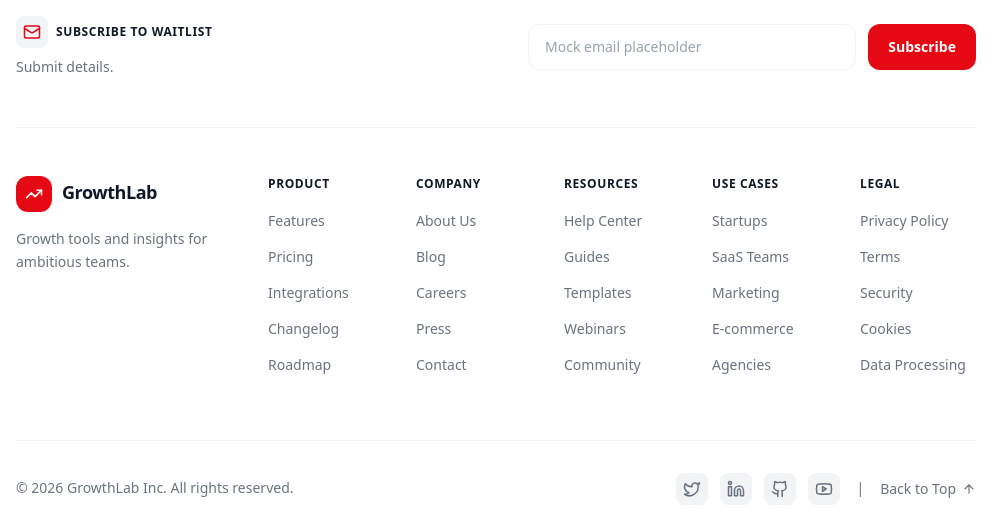
Scenario: WithNewsletter › submits the subscription form and shows success status
This screenshot has width=993, height=522.
Type "test@example.com" into the field with placeholder "Mock email placeholder".
click(692, 47); type("test@example.com")  # box 528,24 -> 856,70
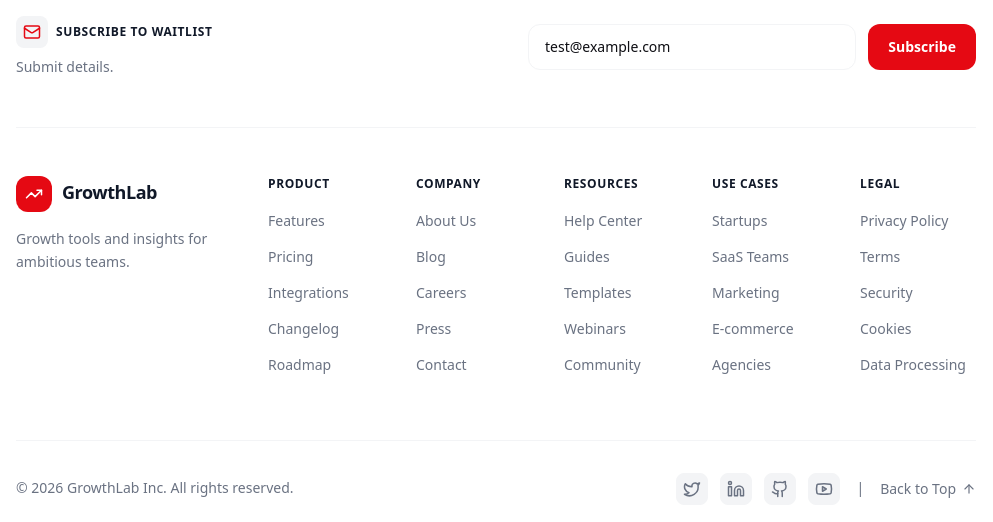
Click the button "Subscribe".
click(922, 47)  # box 868,24 -> 976,70
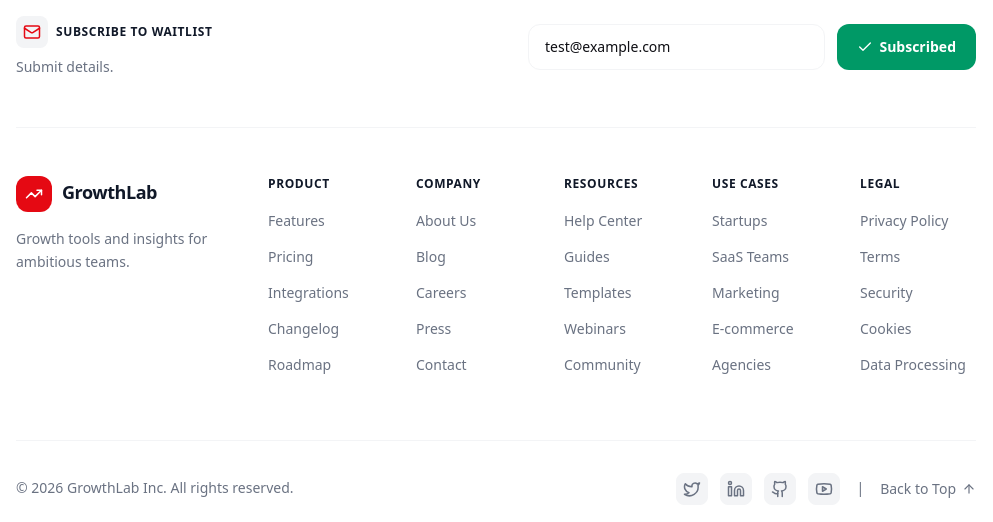
Check: the text "Subscribed" is shown, box 857,37 -> 956,57
